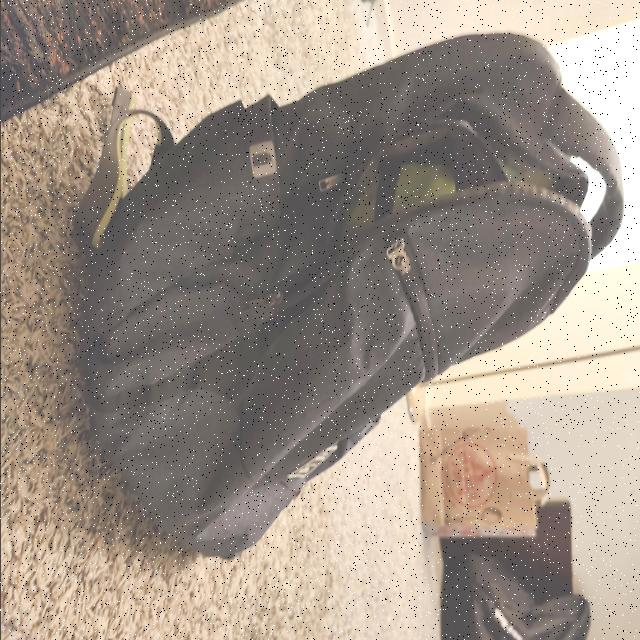bag: (142, 40, 610, 540)
